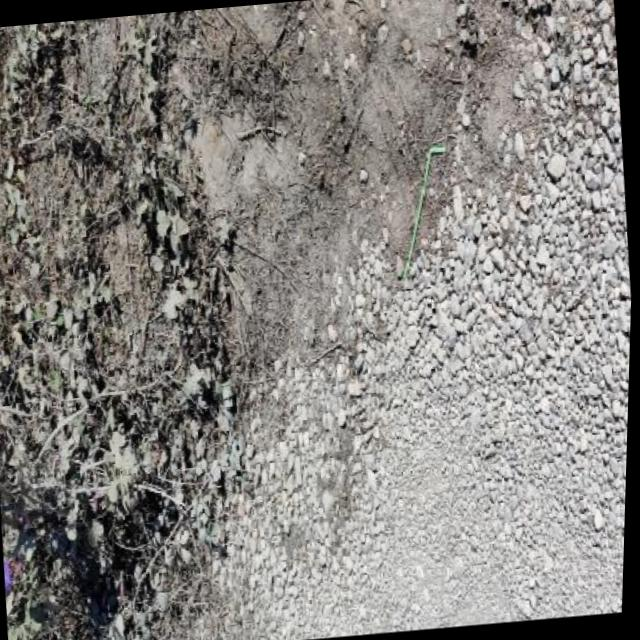plastic: (390, 146, 458, 282)
